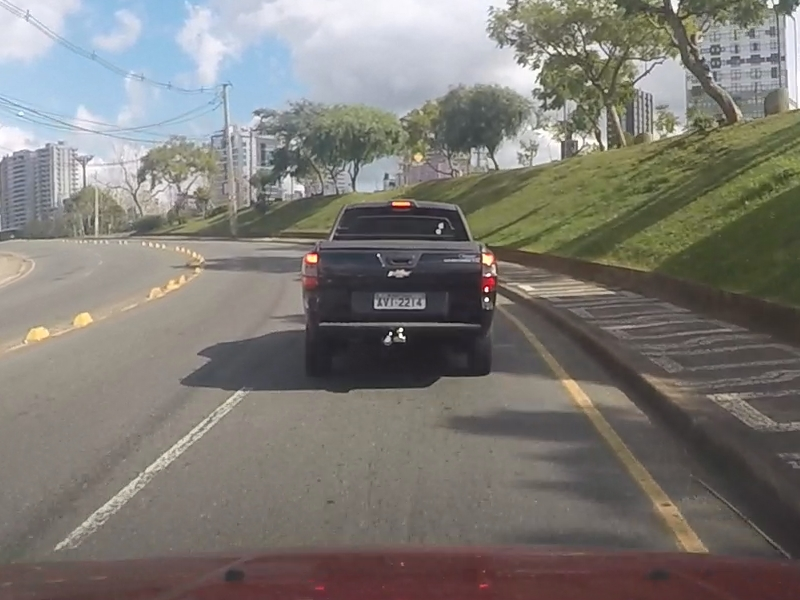placa: (374, 292, 426, 309)
